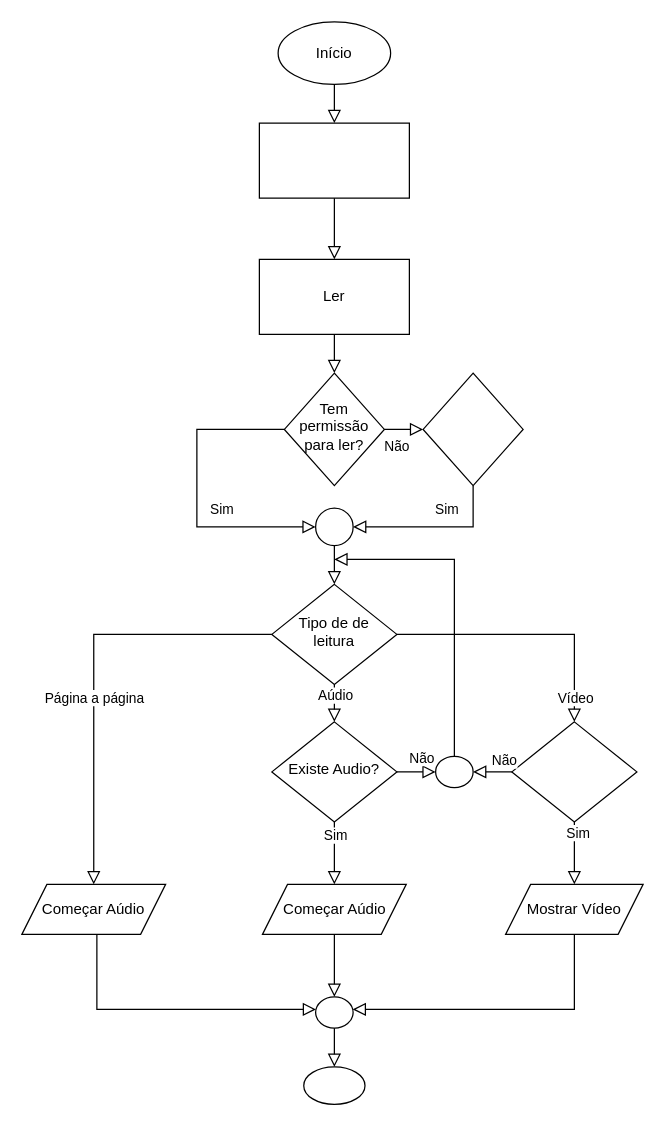
Some shapes in this 665 by 1126 pixel diagram are drawn without their labels. The centre of each missing label's shape, as x and y in pixels:
Existe vídeo?: (574,771)
Fim: (333,1085)
Selecionar livro: (333,160)
Subscrever?: (472,429)
